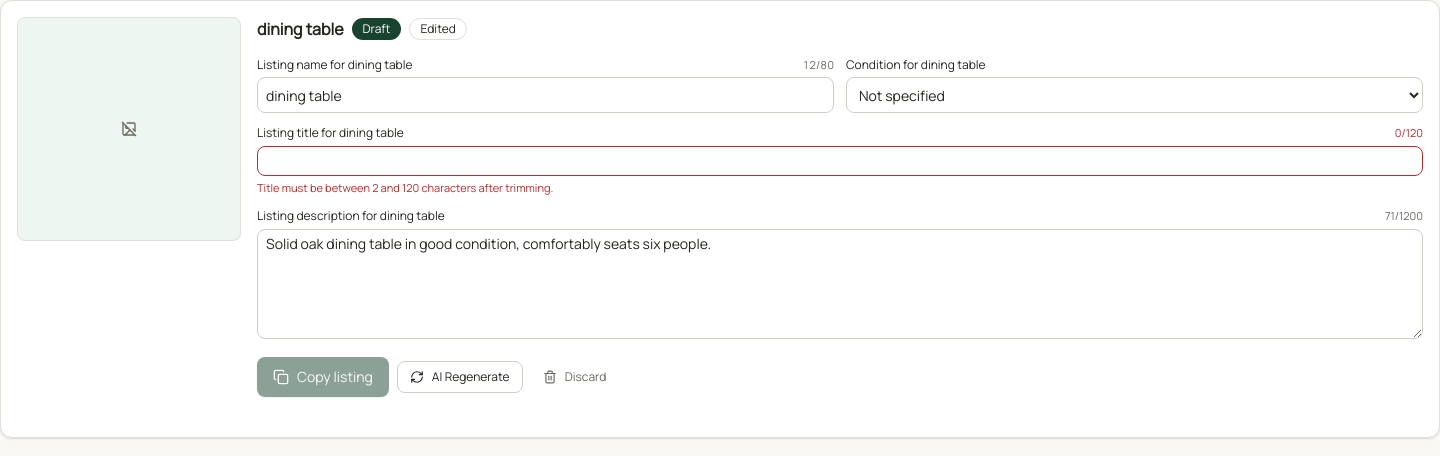
Scenario: ListingDraftCard › generated draft › shows character counts and the backend limits, and flags intermediate invalid input
The image size is (1440, 456).
Expected: the text "0/120" is shown, top-left (1395, 125), bottom-right (1423, 142)
Expected: the text "Title must be between 2 and 120 characters after trimming." is shown, top-left (257, 180), bottom-right (553, 194)
Type "a" into the field labelled "Listing title for dining table" at coordinates (840, 160), box top-left (257, 146), bottom-right (1423, 176)
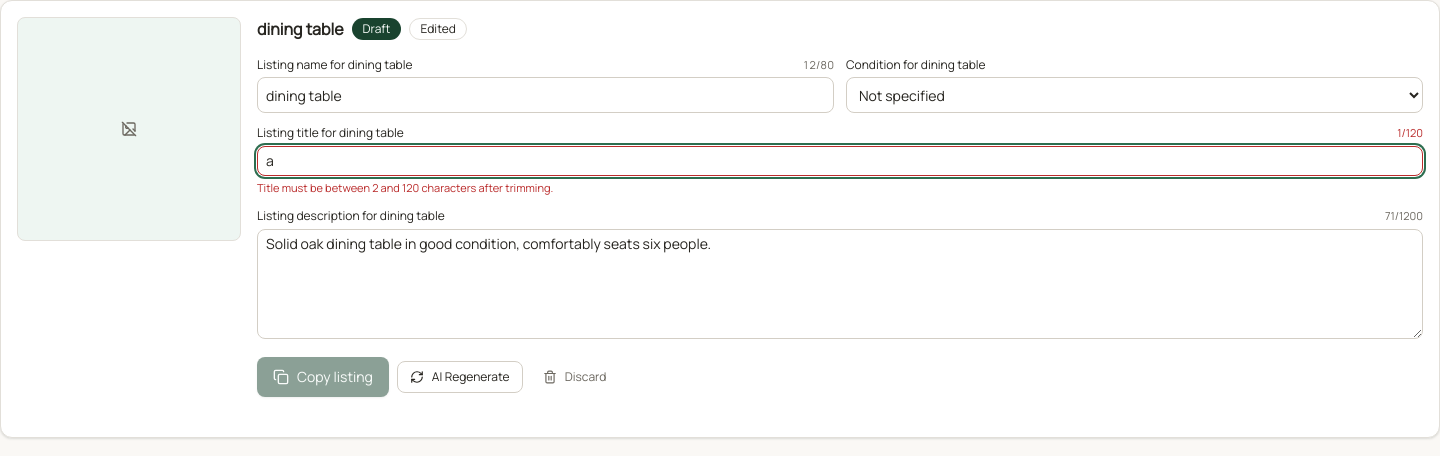
Type "b" into the field labelled "Listing title for dining table" at coordinates (840, 160), box top-left (257, 146), bottom-right (1423, 176)
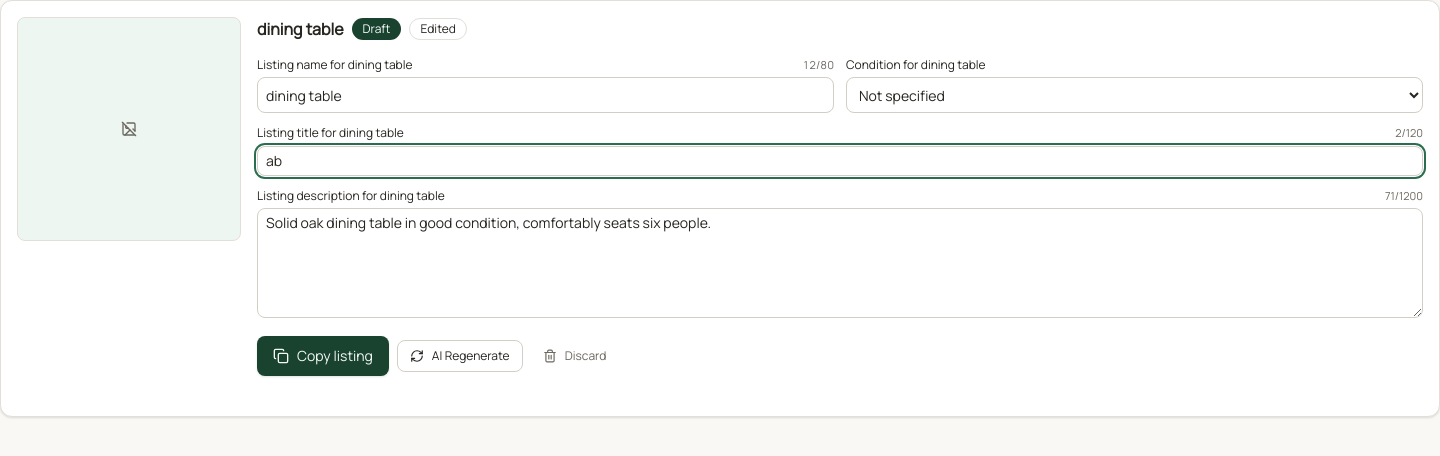
Now the text "between 2 and 120 characters" is gone
